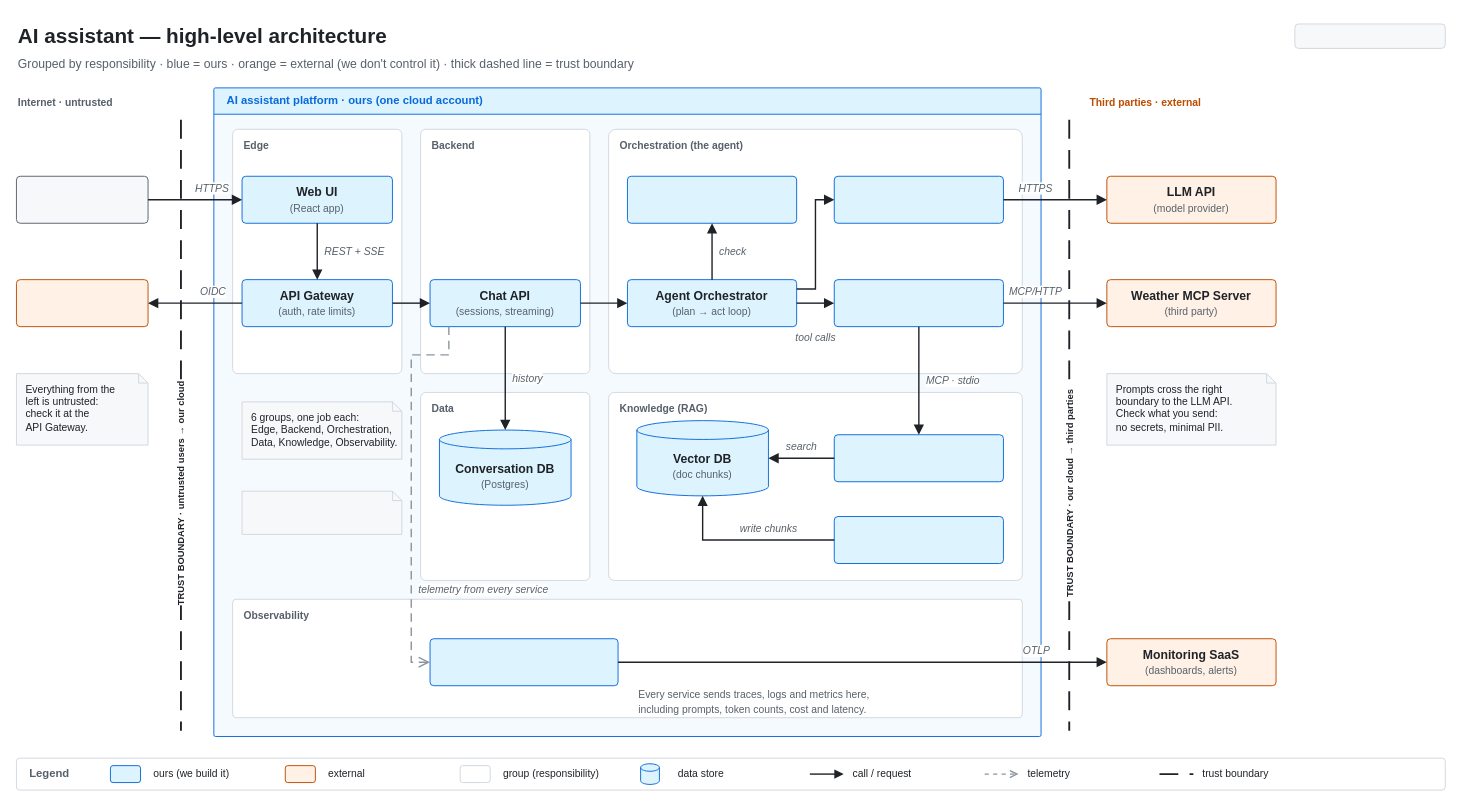
This 1462x807 diagram has some shape labels left out. Here are the shapes that lost their labels. From the top down, the centre of each, then its label:
the point at 1369,35: v1.0 · 2026-11-13
the point at 82,199: User (web browser)
the point at 712,199: Guardrails (input / output checks)
the point at 918,199: LLM client (prompt, retries)
the point at 82,303: Identity provider (e.g. Entra ID)
the point at 918,303: Tool Router + MCP Client
the point at 918,458: Docs MCP Server (search our wiki)
the point at 321,512: Every orange box can fail, cost money, or see our data.
the point at 918,540: Ingestion job (nightly)
the point at 523,662: OpenTelemetry collector (traces · logs · metrics)
